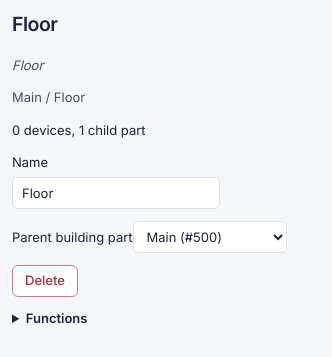
Test case: keeps the old building parent and shows a failed move instead of hiding it
Step 1. Select "Annex (#503)" in the dropdown labelled "Parent building part" → (210, 237), box [133,221,287,253]
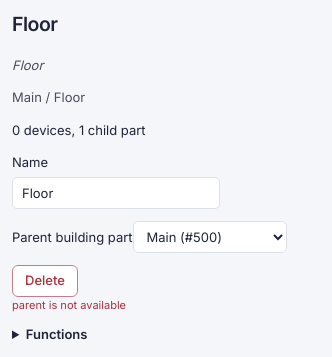
Result: the text with class "field-error" reads "parent is not available" at [12,298,126,312]
